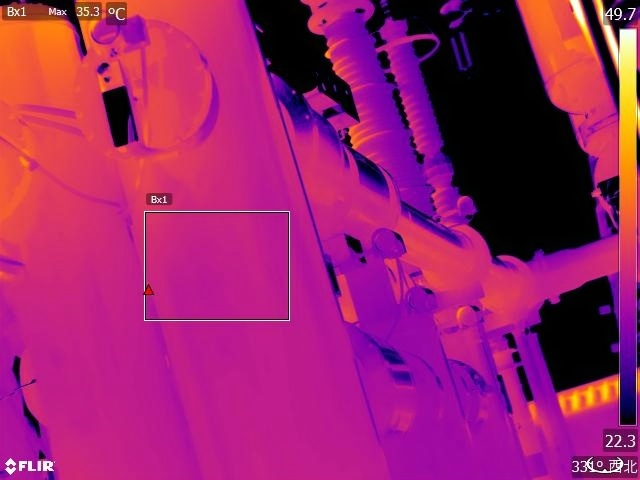insulator: (443, 28, 483, 76)
lightning arrester: (377, 14, 474, 225)
tube: (290, 1, 435, 215)
